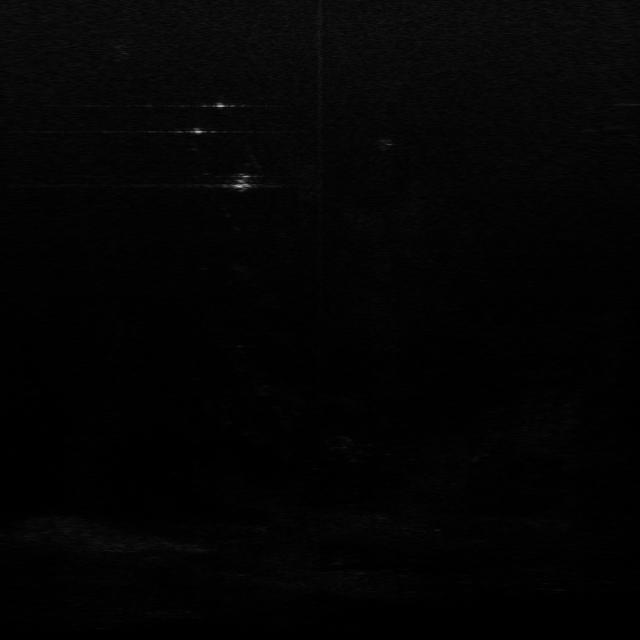rov: (229, 172, 253, 193)
